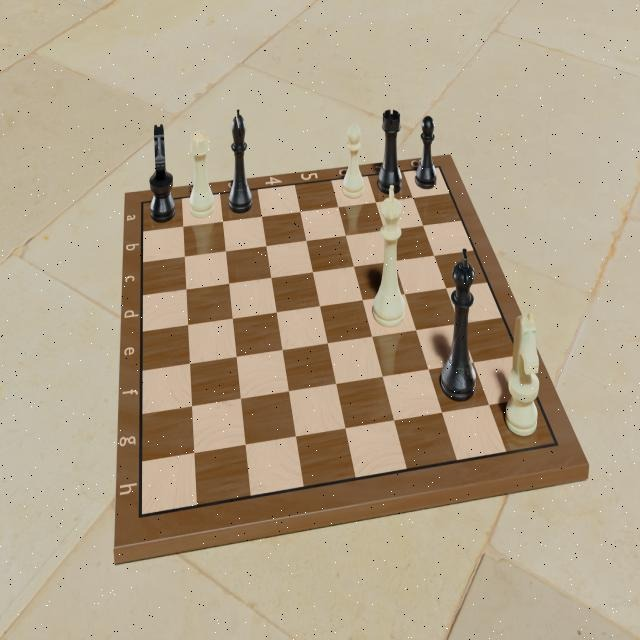black-bishop: (227, 106, 253, 213)
black-king: (439, 246, 477, 402)
black-knight: (148, 121, 175, 223)
black-pawn: (414, 114, 437, 189)
black-rook: (377, 108, 403, 196)
white-king: (370, 183, 405, 328)
white-knight: (504, 311, 539, 438)
white-pawn: (341, 121, 364, 199)
white-rook: (188, 128, 215, 220)
